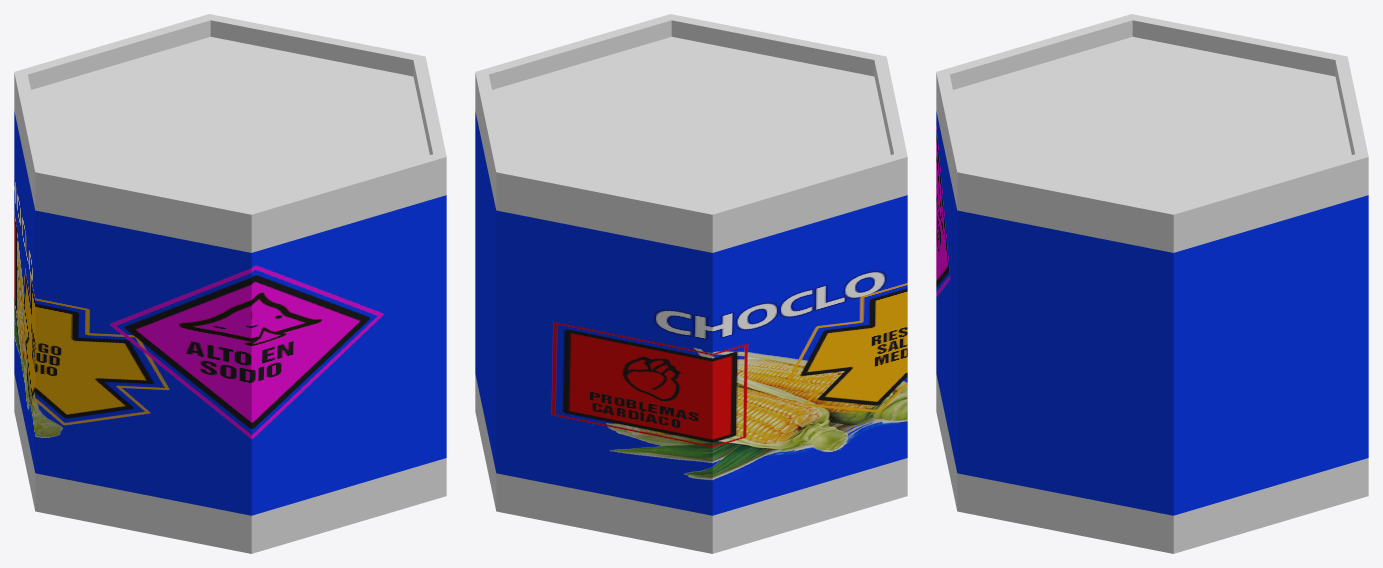
Rendered from choclo.fbx.
The picture shows the model from 3 angles, left to right: view 1: azimuth 30°, elevation 25°; view 2: azimuth 150°, elevation 25°; view 3: azimuth 270°, elevation 25°; orthographic projection.
Parts seen in each view (by area): view 1: Arvejas; view 2: Arvejas; view 3: Arvejas.
Part boxes in pixels (x1,y1,x2,y2): Arvejas: (14, 14, 446, 553); Arvejas: (475, 14, 907, 553); Arvejas: (936, 14, 1368, 553).
Bounding box in the file's own units: 5.52 × 4.35 × 5.02.
Materials: 2 (1 with a texture image).
